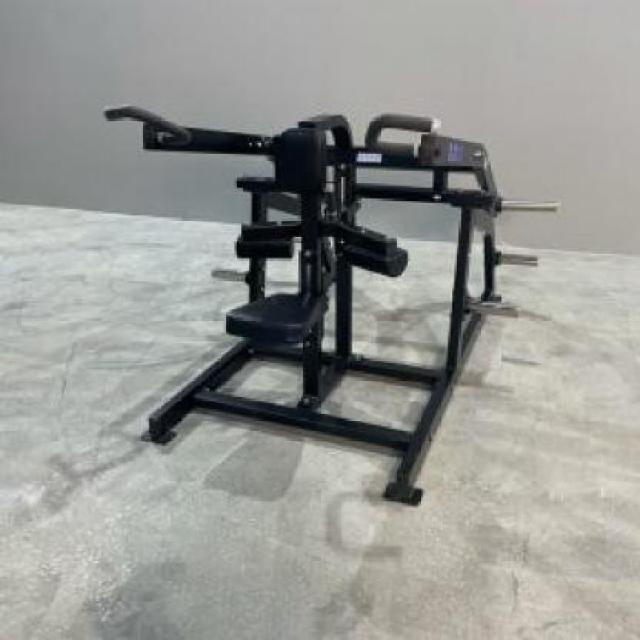seated dip machine: (103, 100, 560, 511)
